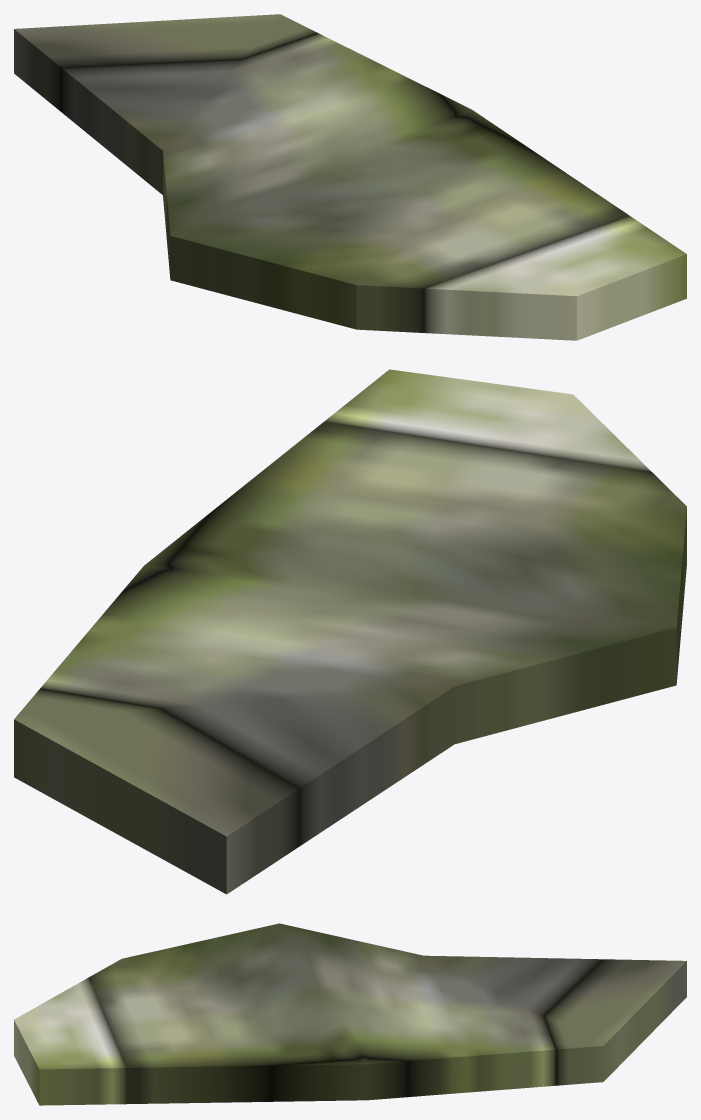
File: China - Aviation - Cargo Plane - Damage State 4 - NVCargoPln_d4.glb
3 views of the same model, one above another, from view 1: azimuth 30°, elevation 25°; view 2: azimuth 150°, elevation 25°; view 3: azimuth 270°, elevation 25° (orthographic). The views are drawn at different scales.
Visible parts, largest first — view 1: NVCARGOPLN_D4; view 2: NVCARGOPLN_D4; view 3: NVCARGOPLN_D4.
Boxes of the visible parts, x1,y1,x2,y2 form: NVCARGOPLN_D4: (14,14,686,340); NVCARGOPLN_D4: (14,369,686,894); NVCARGOPLN_D4: (14,923,686,1105).
Size of the model in its own units: 6.5 by 0.75 by 12.66.
1 material, 1 textured.
